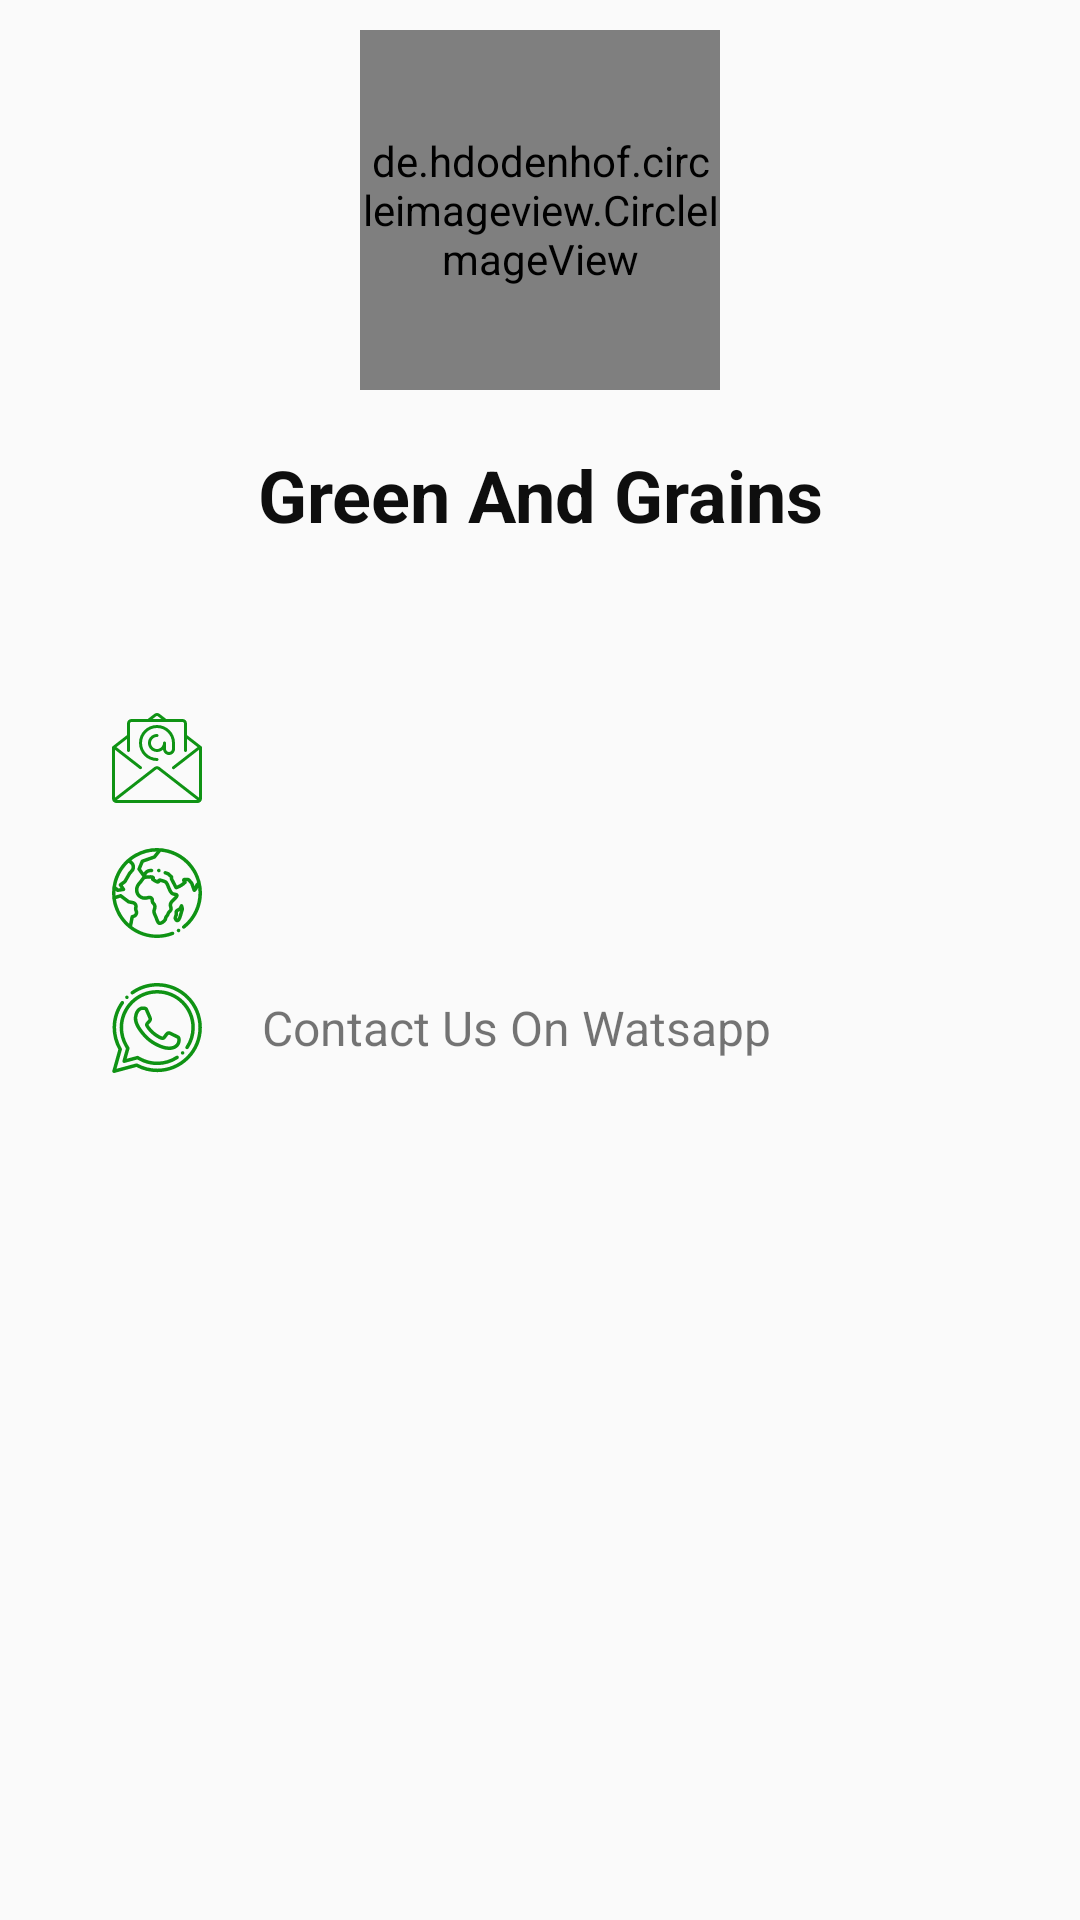

Point at icon controls on the screen. Image size 1080×1920, points as point (x, y).
mail: point (157, 758)
world: point (157, 893)
